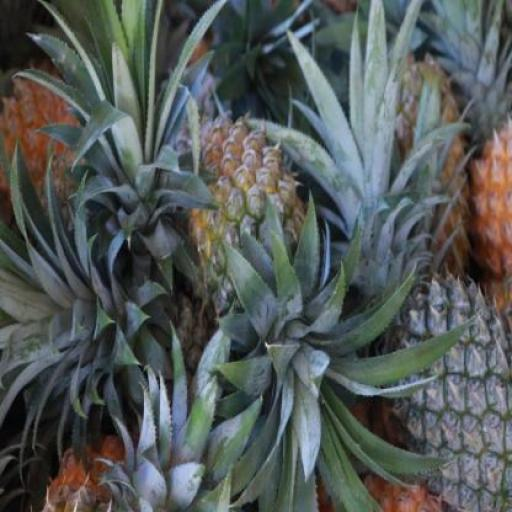------------------------------: (176, 114, 315, 325)
